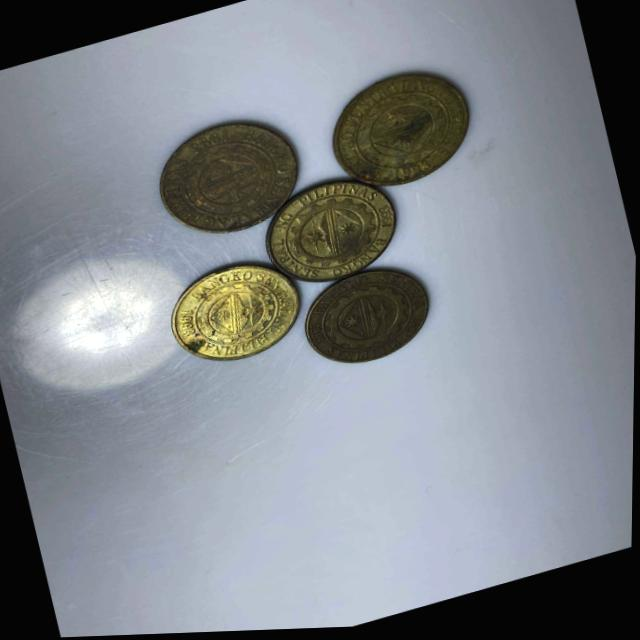25Cent_Old_Back: (148, 114, 304, 248), (331, 65, 483, 197), (162, 254, 305, 375), (264, 172, 405, 294), (300, 263, 434, 377)
